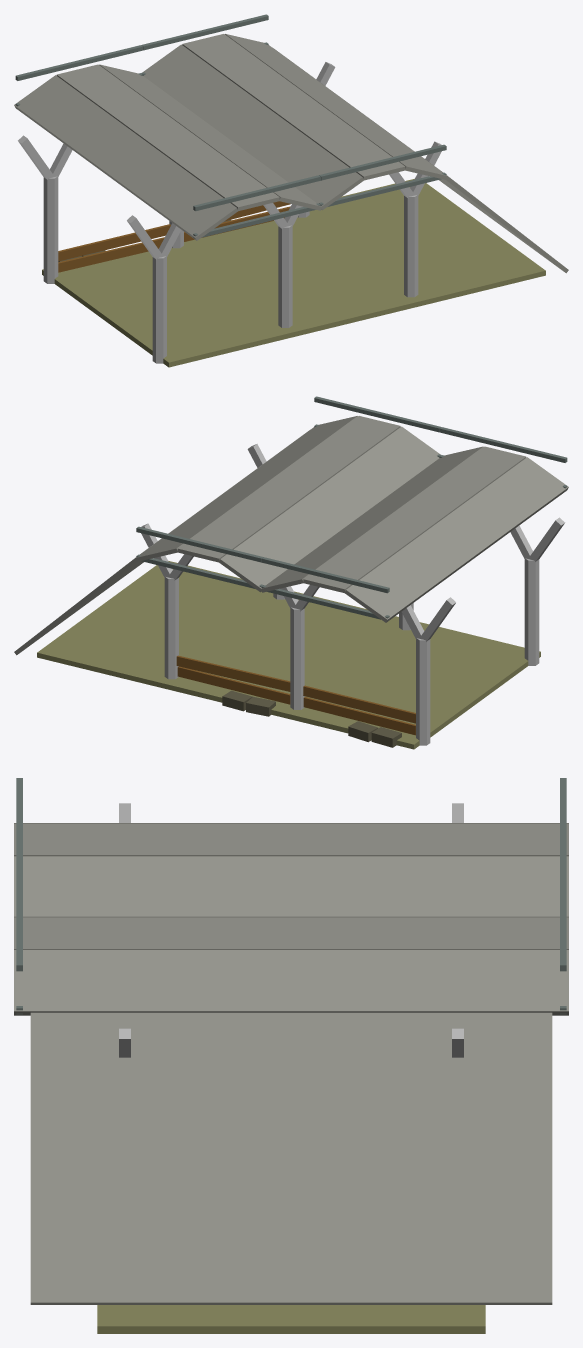
Rendered from SM_MarquesinaBus_v2_Barricada_e1_Danado_LOD1.fbx.
3 views of the same model, one above another, from view 1: azimuth 30°, elevation 25°; view 2: azimuth 150°, elevation 25°; view 3: azimuth 270°, elevation 25° (orthographic). The views are drawn at different scales.
Parts seen in each view (by area): view 1: SM_marquesina_bus_v9_LOD1; view 2: SM_marquesina_bus_v9_LOD1; view 3: SM_marquesina_bus_v9_LOD1.
Part boxes in pixels (box(x1,y1,x2,y2)): SM_marquesina_bus_v9_LOD1: box(14, 14, 568, 367); SM_marquesina_bus_v9_LOD1: box(14, 396, 568, 749); SM_marquesina_bus_v9_LOD1: box(14, 778, 568, 1333).
Size of the model in its own units: 13.03 by 5.46 by 10.
